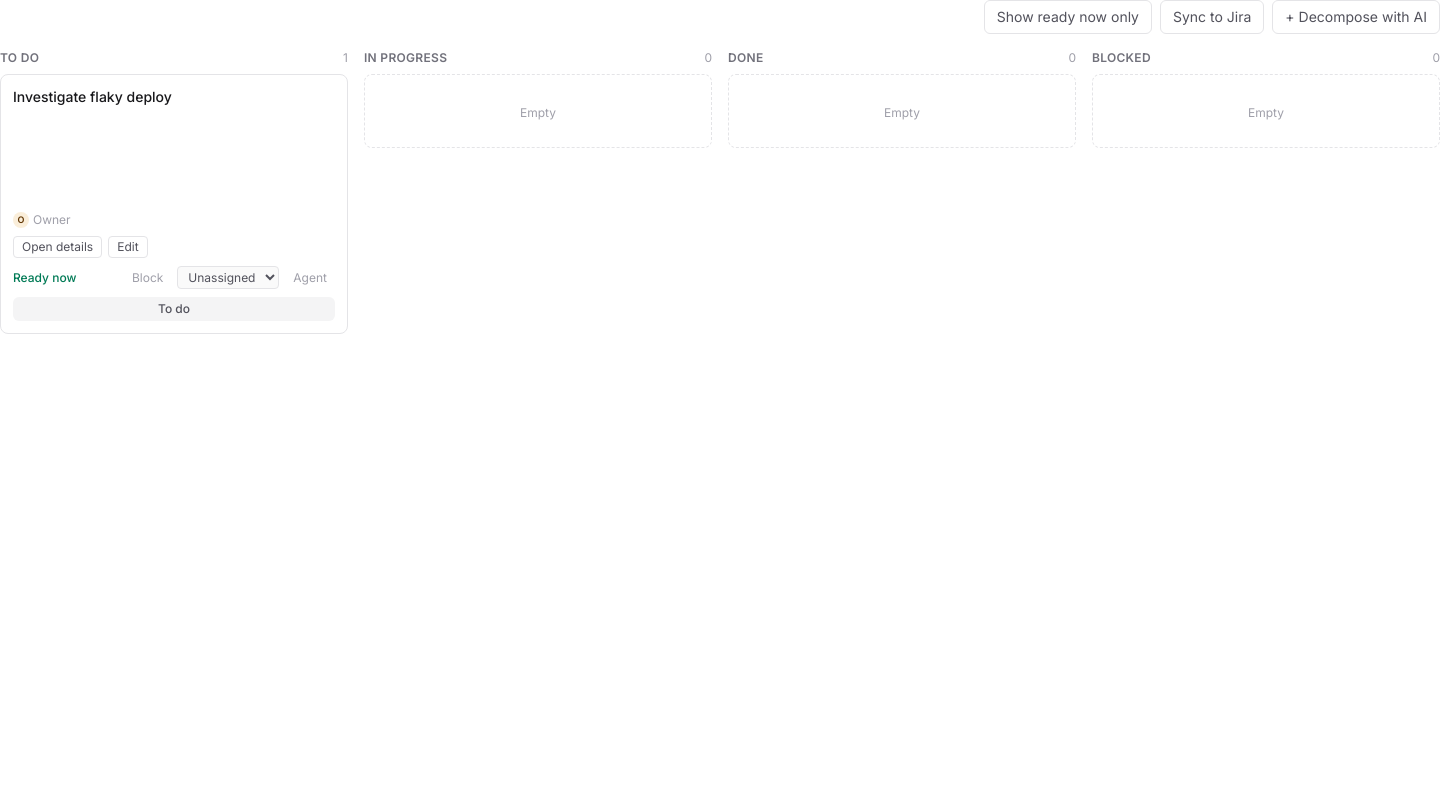
Scenario: TaskBoard Jira sync flow › shows confirmation modal when sync requires unassigned-task confirmation
The image size is (1440, 810).
Click the button "Sync to Jira": (1212, 17) x1=1160 y1=0 x2=1264 y2=34
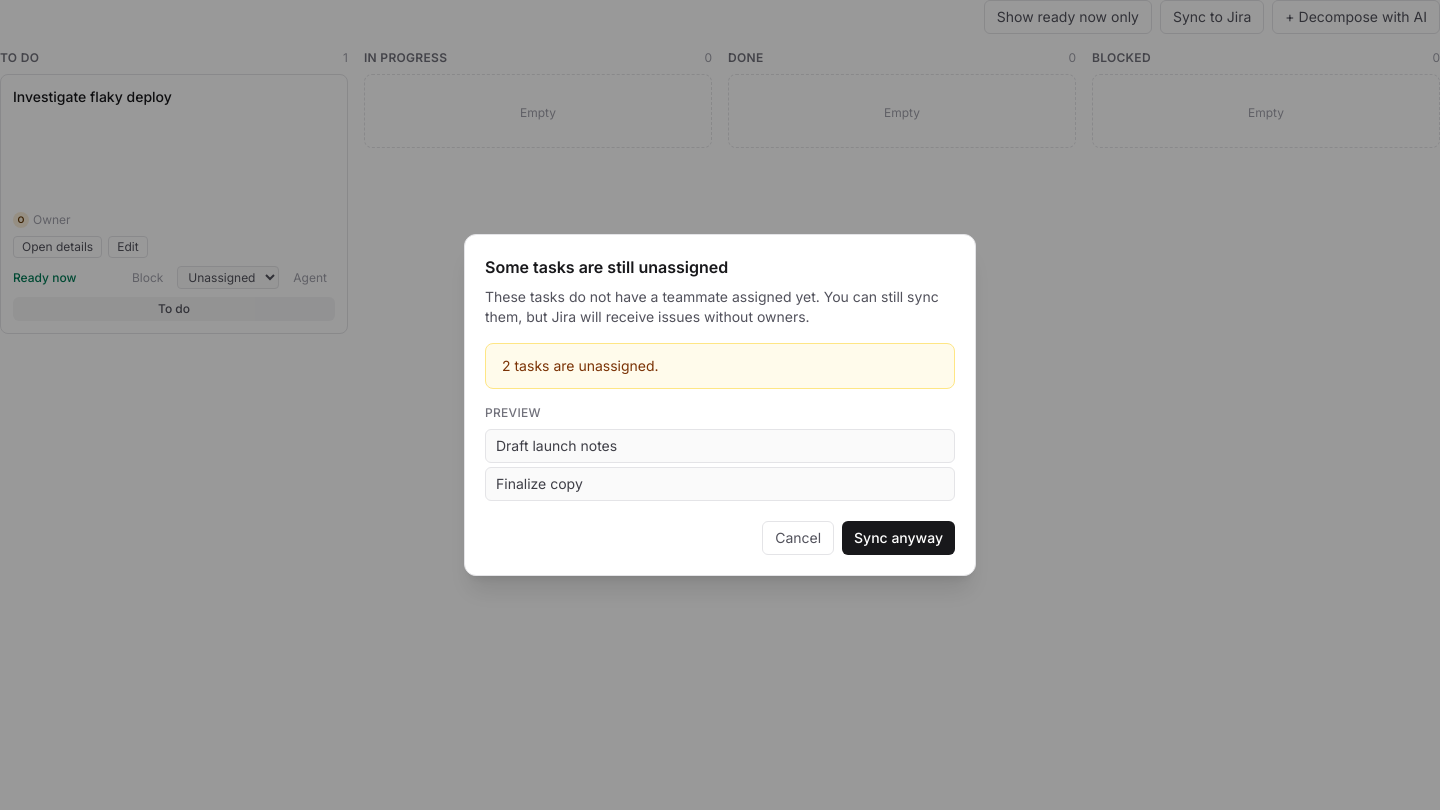
Expected: the dialog is shown
Expected: the heading "Some tasks are still unassigned" is shown, x1=485 y1=257 x2=728 y2=277
Expected: the text "Draft launch notes" is shown, x1=485 y1=429 x2=955 y2=463
